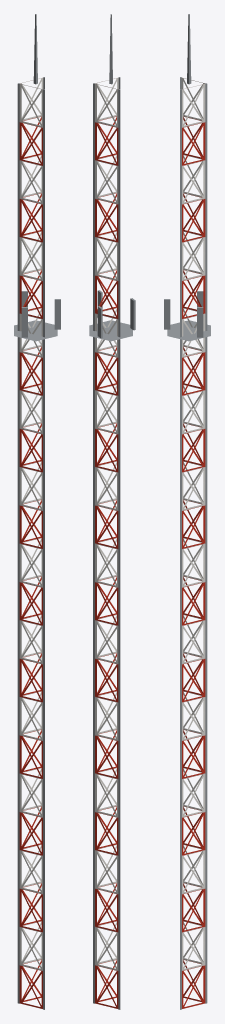
Rendered from mast_lattice.glb.
3 views of the same model, side by side, from view 1: azimuth 90°, elevation 25°; view 2: azimuth 210°, elevation 25°; view 3: azimuth 270°, elevation 25° (orthographic).
Visible parts, largest first — view 1: mast_lattice; view 2: mast_lattice; view 3: mast_lattice.
Boxes of the visible parts, x1,y1,x2,y2 form: mast_lattice: [14, 14, 60, 1009]; mast_lattice: [89, 14, 135, 1009]; mast_lattice: [164, 14, 210, 1009].
Bounding box in the file's own units: 2.76 × 60 × 2.57.
Materials: 2 (1 with a texture image).
